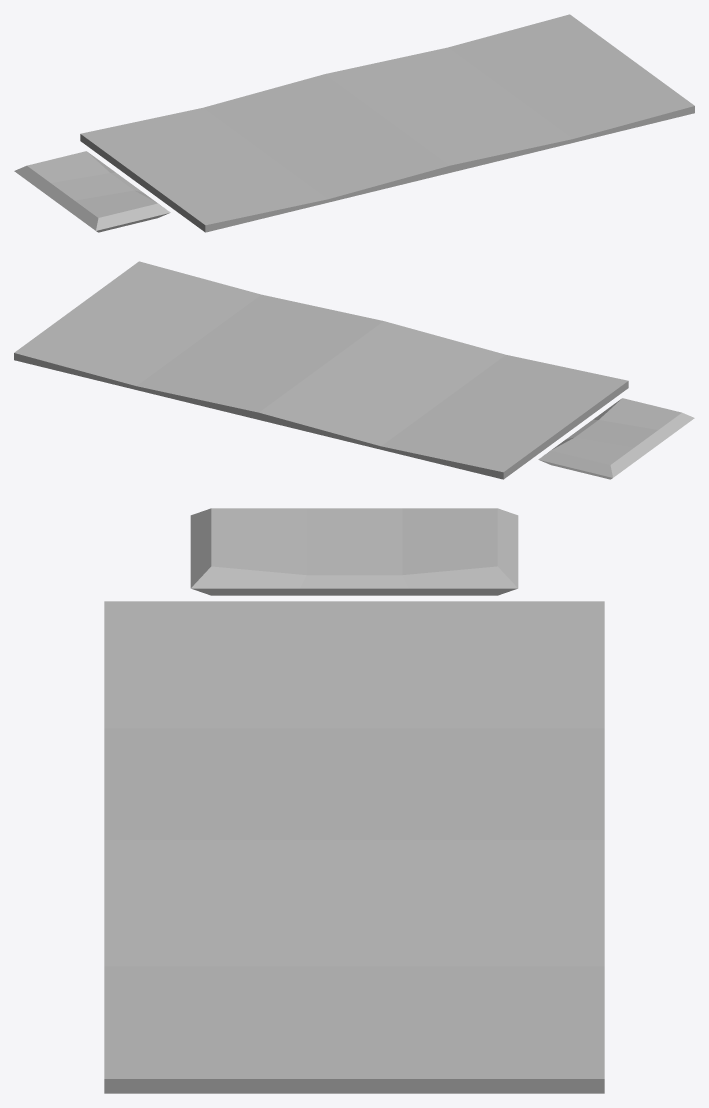
Rendered from Camp_BedUV.fbx.
The picture shows the model from 3 angles, top to bottom: view 1: azimuth 30°, elevation 25°; view 2: azimuth 150°, elevation 25°; view 3: azimuth 270°, elevation 25°; orthographic projection. The views are drawn at different scales.
Parts seen in each view (by area): view 1: Cube; view 2: Cube; view 3: Cube.
Part boxes in pixels (box(x1,y1,x2,y2)): Cube: box(14, 14, 694, 232); Cube: box(14, 261, 694, 479); Cube: box(104, 508, 604, 1093).
Size of the model in its own units: 219 by 5.29 by 82.03.
